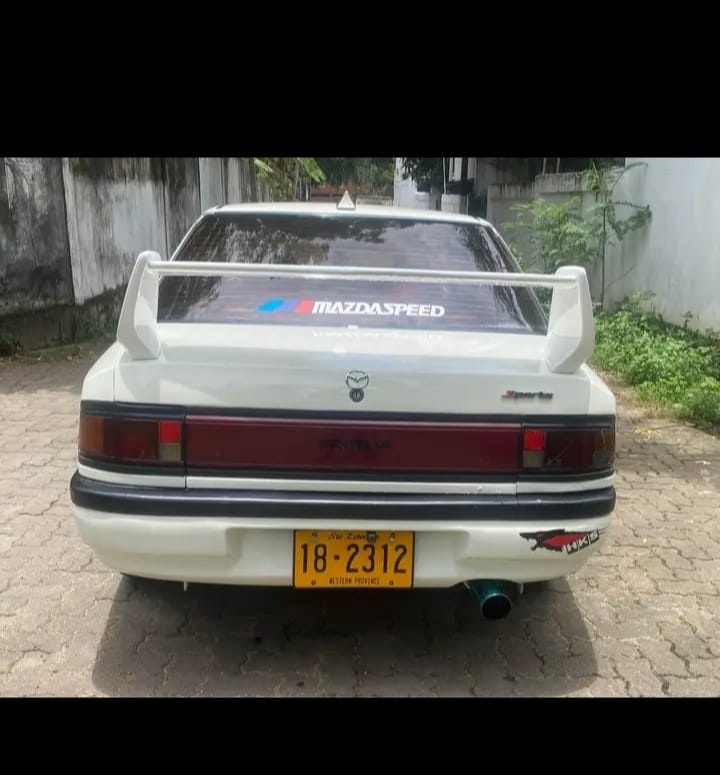number_plate: (292, 534, 413, 587)
